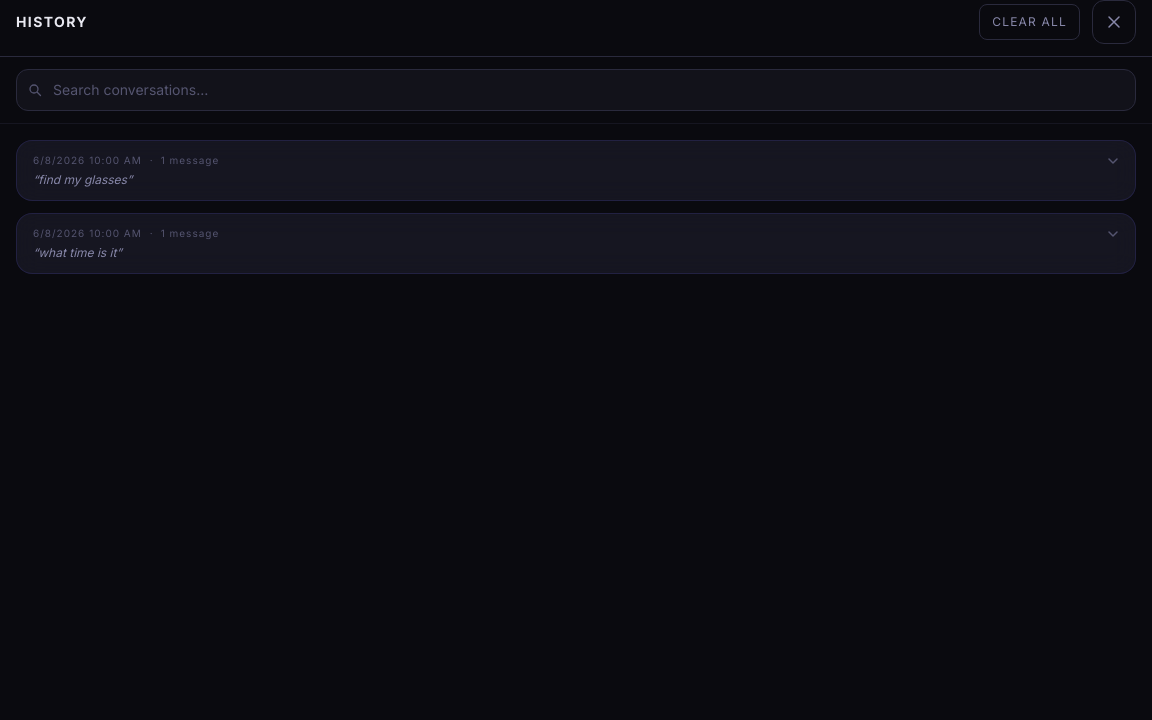
Test: ConversationHistory › filters conversations by search term
Type "glasses" into the field with placeholder "Search conversations…" at (576, 90), box [16,69,1136,111]
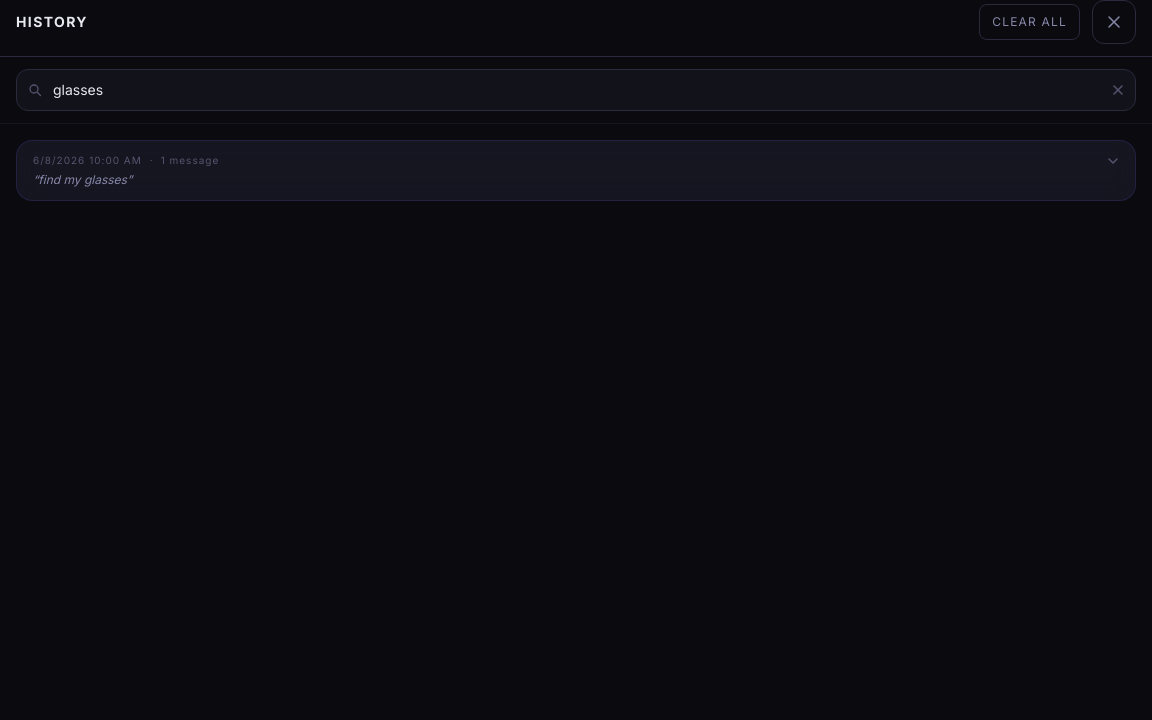
Expected: the text "“find my glasses”" is shown, [33,172,132,187]
Expected: the button "what time is it" is gone
